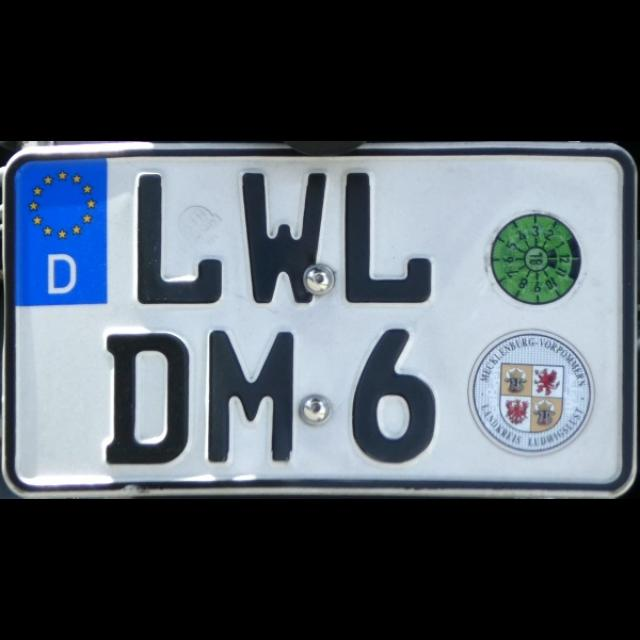d_license_plate: (11, 151, 632, 495)
